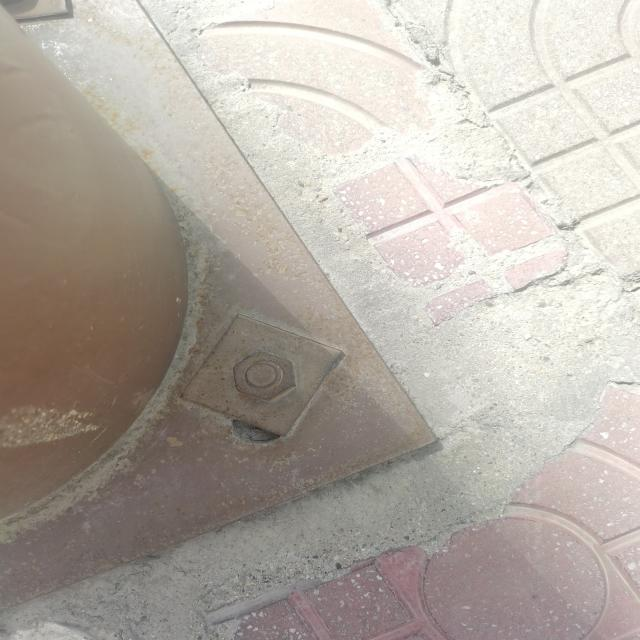bolt nut: (232, 351, 298, 402)
